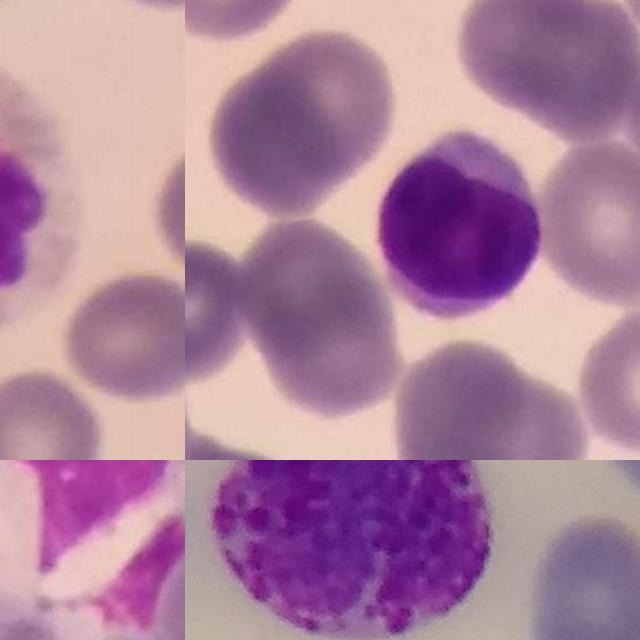Basophil: (212, 460, 497, 639)
Lymphocyte: (378, 129, 542, 320)
Monocyte: (0, 460, 185, 619)
Neutrophil: (0, 49, 86, 331)
